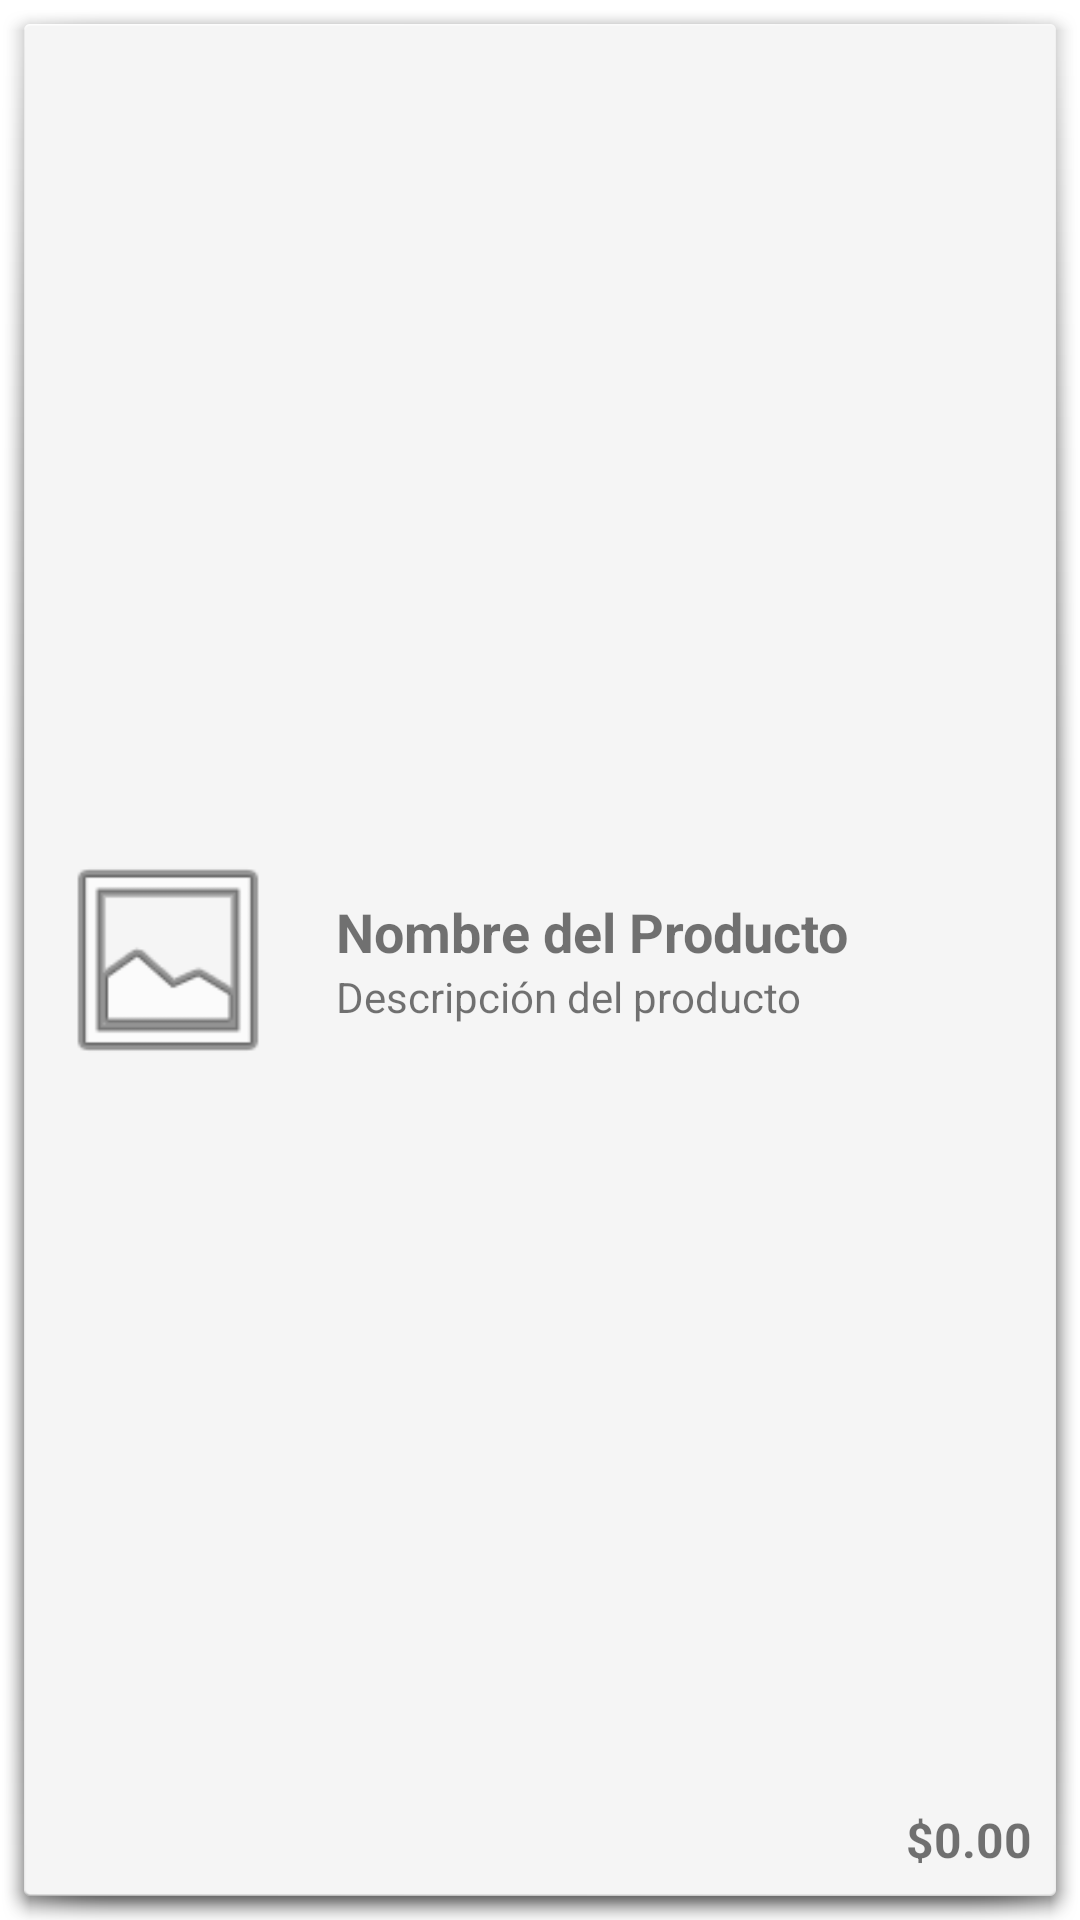

Locate icon controls on the screen. Image size 1080w x 1920h, boxes as detection(x1, y1, x2, y2).
gallery: detection(77, 869, 259, 1051)
